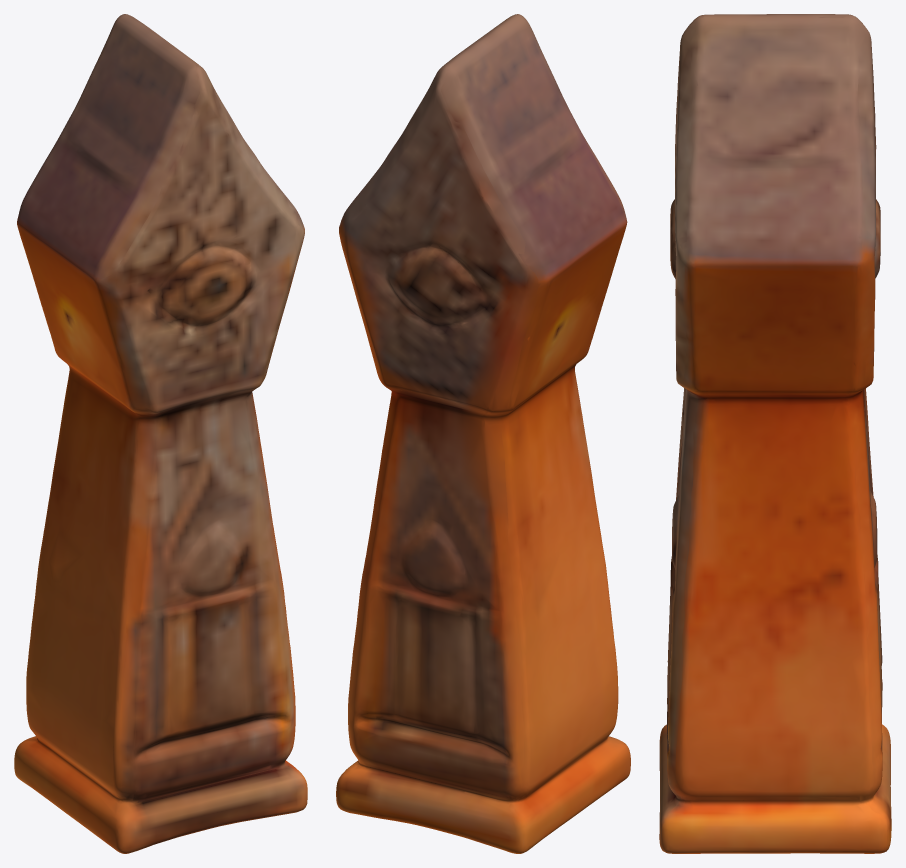
The model's file is column2.glb.
3 views of the same model, side by side, from view 1: azimuth 30°, elevation 25°; view 2: azimuth 150°, elevation 25°; view 3: azimuth 270°, elevation 25° (orthographic). The views are drawn at different scales.
Visible parts, largest first — view 1: material.001; view 2: material.001; view 3: material.001.
Part boxes in pixels (left/top/right/bottom): material.001: left=14, top=14, right=307, bottom=853; material.001: left=336, top=14, right=630, bottom=853; material.001: left=659, top=14, right=891, bottom=853.
Bounding box in the file's own units: 0.0763 × 0.2607 × 0.0689.
Materials: 1 (1 with a texture image).
